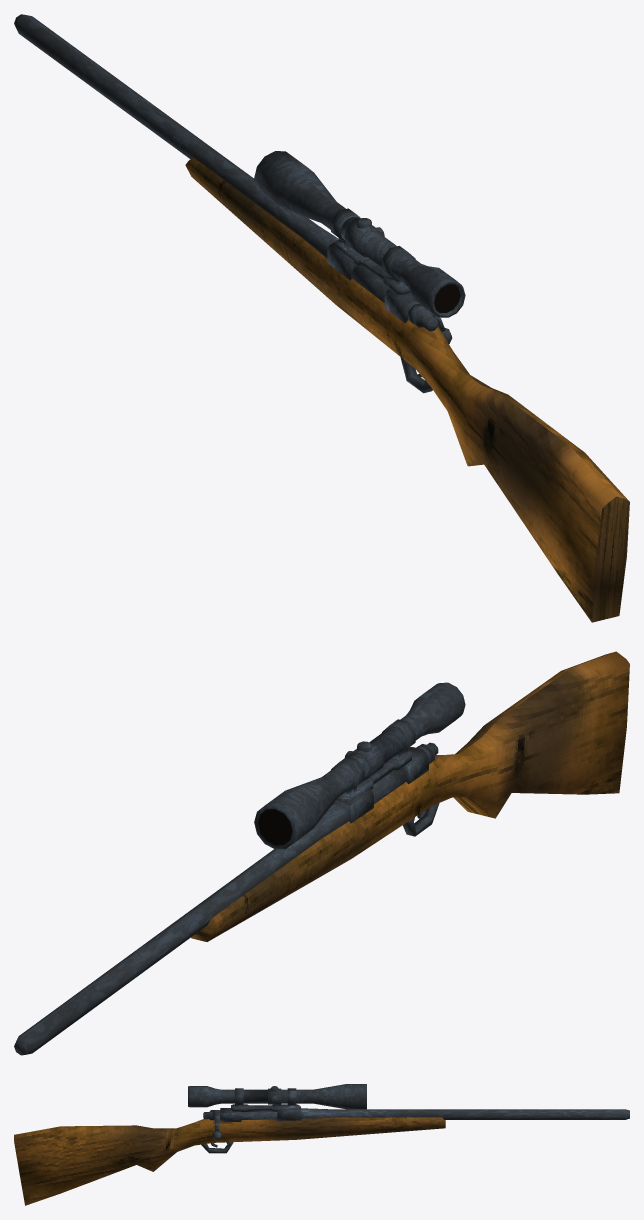
The model's file is heavy_rifle.glb.
The picture shows the model from 3 angles, top to bottom: view 1: azimuth 30°, elevation 25°; view 2: azimuth 150°, elevation 25°; view 3: azimuth 270°, elevation 25°; orthographic projection. The views are drawn at different scales.
Parts seen in each view (by area): view 1: heavy_rifle; view 2: heavy_rifle; view 3: heavy_rifle.
Part boxes in pixels (left/top/right/bottom): heavy_rifle: left=14, top=14, right=629, bottom=622; heavy_rifle: left=14, top=651, right=629, bottom=1055; heavy_rifle: left=14, top=1084, right=629, bottom=1205.
Size of the model in its own units: 0.0612 by 0.2519 by 1.2.
Materials: 1 (1 with a texture image).
